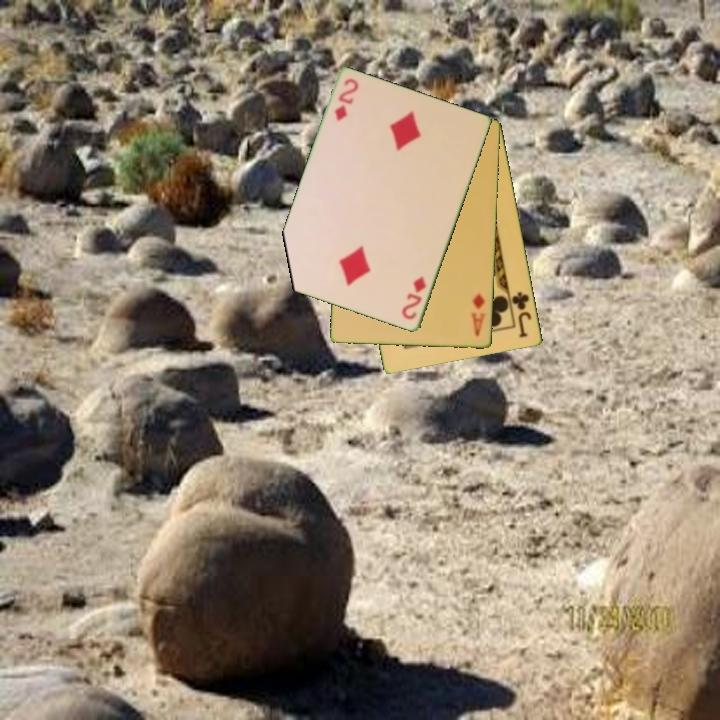2d: (398, 272, 429, 323), (331, 75, 361, 124)
Ad: (468, 289, 489, 340)
Jc: (508, 288, 534, 341)
